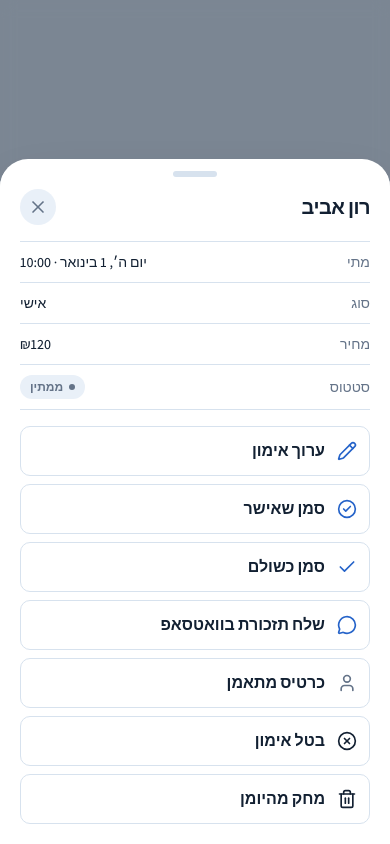
Scenario: SessionActionsSheet › asks whether a recurring edit applies to one or future sessions
The image size is (390, 844).
Click the button "ערוך אימון" at (288, 450), box top-left (20, 426), bottom-right (370, 476)
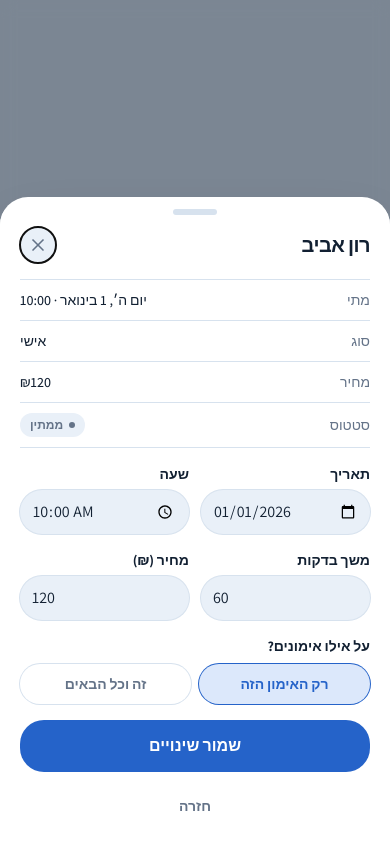
expect the button "רק האימון הזה" is shown: met, box top-left (199, 664), bottom-right (370, 704)
expect the button "זה וכל הבאים" is shown: met, box top-left (20, 664), bottom-right (191, 704)
